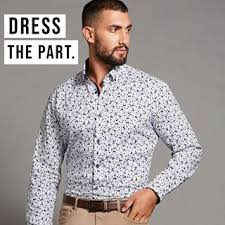F_belt: (57, 189, 158, 222)
